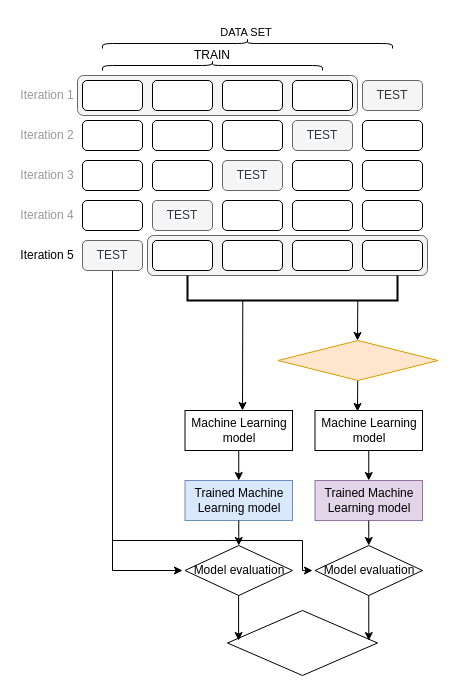
Some shapes in this 455 by 693 pixel diagram are drawn without their labels. The shapes that lost their labels are listed below. From the top down, each one's centre as x and y in pixels, then its label:
point 357,360: Fingerprint embedding
point 302,643: Compare metrics
